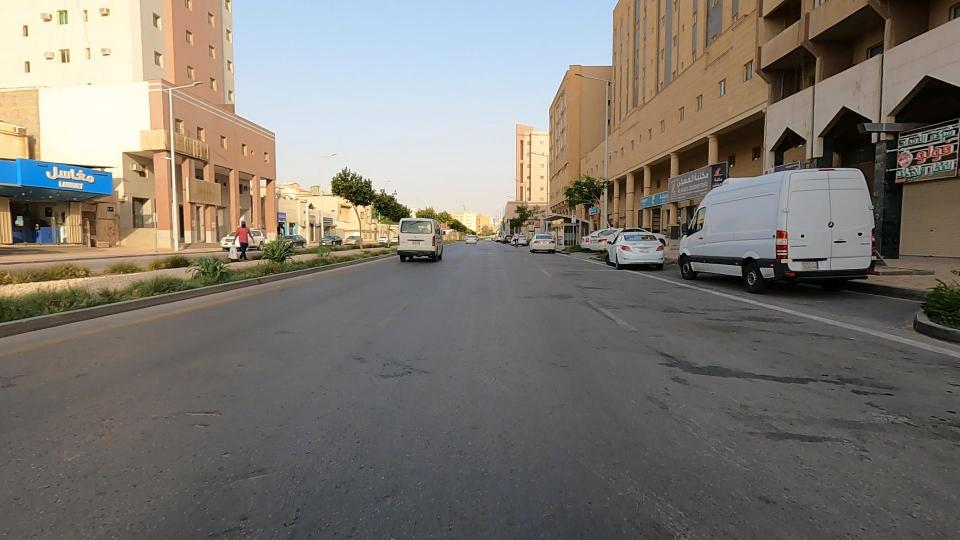POTHOLES: (508, 280, 960, 456), (117, 369, 283, 466), (337, 332, 458, 411)
